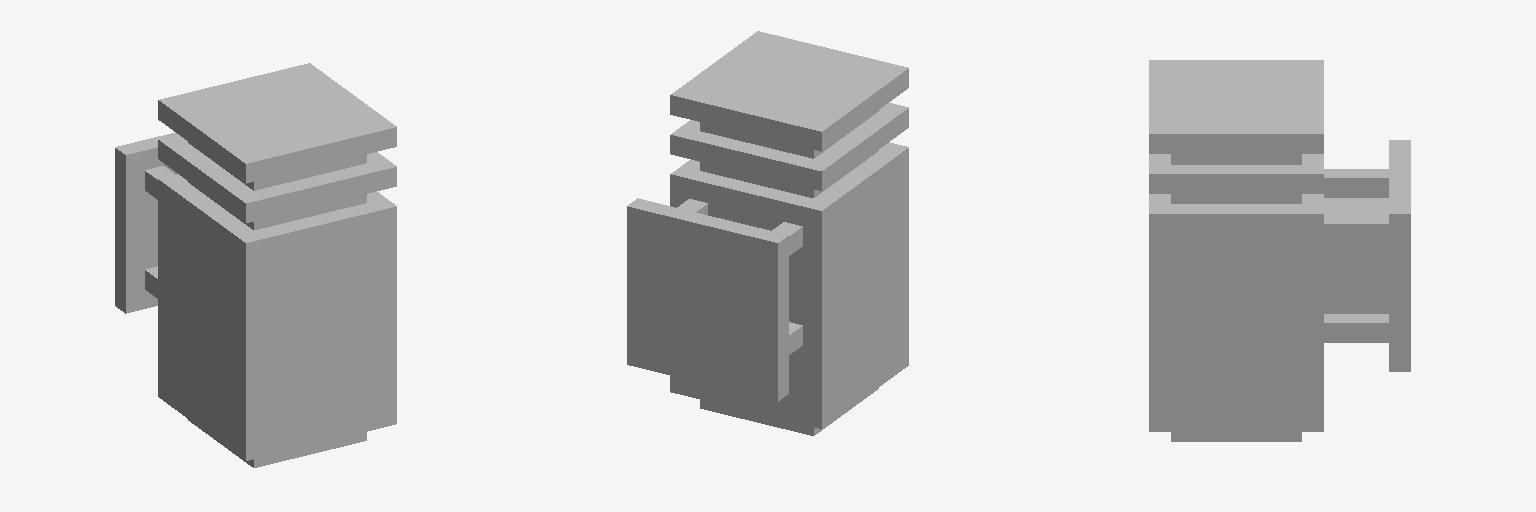
The model's file is electricPump_0.obj.
3 views of the same model, side by side, from view 1: azimuth 30°, elevation 25°; view 2: azimuth 150°, elevation 25°; view 3: azimuth 270°, elevation 25° (orthographic).
Visible parts, largest first — view 1: pumpCasing, pumpPortTop, pumpRingTop, powerPort, pumpBase; view 2: pumpCasing, powerPort, pumpPortTop, pumpRingTop, pumpBase; view 3: pumpCasing, pumpPortTop, powerConnector, pumpRingTop, powerPort, pumpBase, powerConnectorFrame1, powerConnectorFrame2, powerConnectorFrame4.
Part boxes in pixels (x1,y1,x2,y2): pumpCasing: (158,174,396,460); pumpPortTop: (158,63,396,183); pumpRingTop: (158,135,396,222); powerPort: (115,132,178,313); pumpBase: (188,142,366,467); pumpCasing: (670,142,908,428); powerPort: (627,198,788,401); pumpPortTop: (670,31,908,151); pumpRingTop: (670,103,908,190); pumpBase: (700,110,878,435); pumpCasing: (1149,194,1323,431); pumpPortTop: (1149,60,1323,153); powerConnector: (1324,198,1388,313); pumpRingTop: (1149,154,1323,193); powerPort: (1389,140,1410,371); pumpBase: (1171,154,1301,441); powerConnectorFrame1: (1324,215,1388,243); powerConnectorFrame2: (1324,169,1388,197); powerConnectorFrame4: (1324,314,1388,342).
Size of the model in its own units: 0.5 by 1 by 0.75.